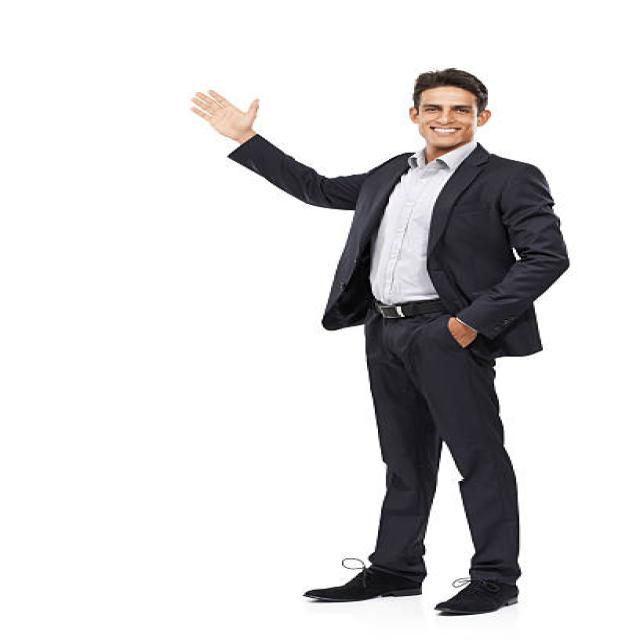Edited images: (182, 56, 589, 624)
